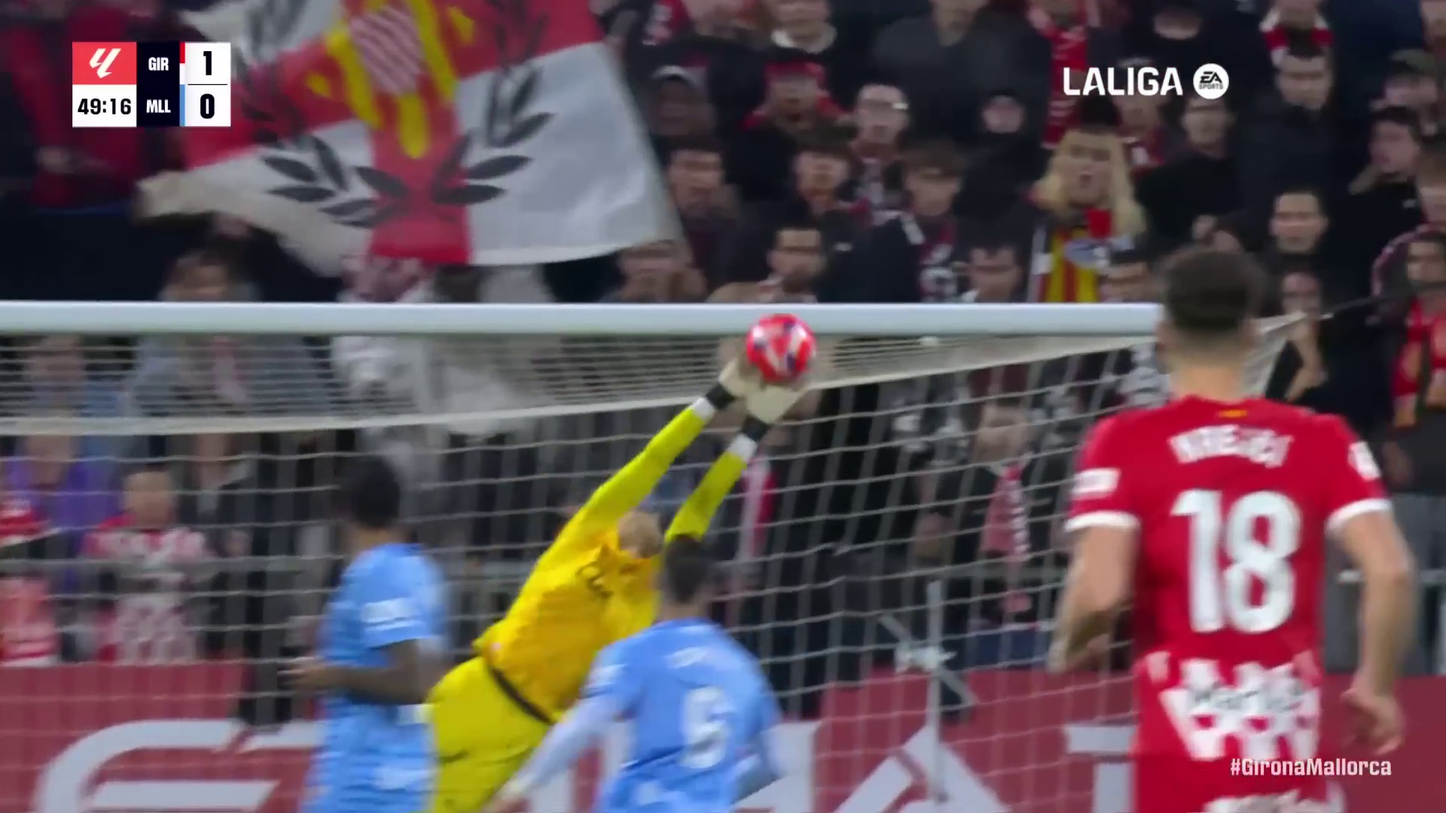ball: (742, 309, 817, 383)
player: (1036, 253, 1419, 813), (438, 353, 813, 810), (273, 452, 483, 813), (517, 545, 788, 813)
